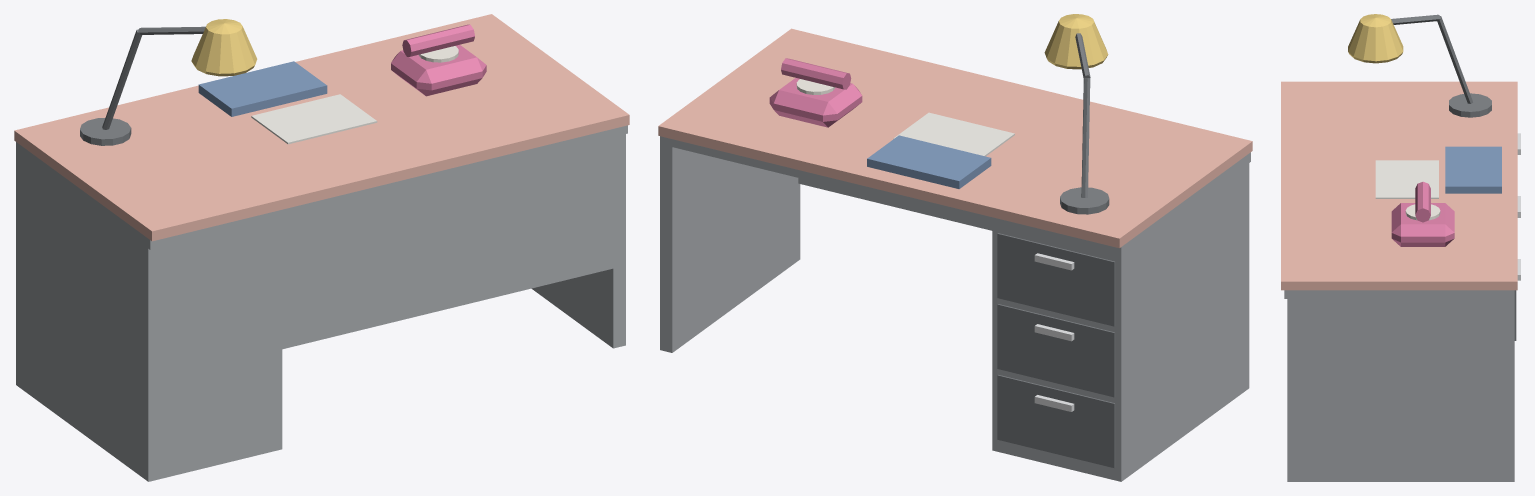
The model's file is office_desk.glb.
The picture shows the model from 3 angles, left to right: view 1: azimuth 30°, elevation 25°; view 2: azimuth 150°, elevation 25°; view 3: azimuth 270°, elevation 25°; orthographic projection. The views are drawn at different scales.
Visible parts, largest first — view 1: office_desk_steel, office_desk_formica, office_desk_book_b, office_desk_accent, office_desk_paper, office_desk_accent3, office_desk_steel_d; view 2: office_desk_steel, office_desk_formica, office_desk_steel_d, office_desk_book_b, office_desk_accent, office_desk_paper, office_desk_accent3, office_desk_chrome; view 3: office_desk_steel, office_desk_formica, office_desk_accent, office_desk_book_b, office_desk_paper, office_desk_accent3, office_desk_steel_d, office_desk_cream.
Part boxes in pixels (x1,y1,x2,y2): office_desk_steel: (16, 125, 627, 481); office_desk_formica: (14, 14, 629, 241); office_desk_book_b: (198, 61, 327, 116); office_desk_accent: (391, 24, 486, 96); office_desk_paper: (251, 94, 377, 144); office_desk_accent3: (191, 19, 257, 76); office_desk_steel_d: (80, 26, 205, 145); office_desk_steel: (660, 136, 1250, 481); office_desk_formica: (658, 28, 1252, 248); office_desk_steel_d: (997, 33, 1115, 467); office_desk_book_b: (867, 135, 991, 188); office_desk_accent: (769, 58, 862, 127); office_desk_paper: (893, 112, 1014, 156); office_desk_accent3: (1044, 14, 1108, 69); office_desk_chrome: (1034, 253, 1074, 411); office_desk_steel: (1284, 290, 1514, 481); office_desk_formica: (1281, 81, 1517, 290); office_desk_accent: (1391, 181, 1454, 246); office_desk_book_b: (1445, 146, 1501, 193); office_desk_paper: (1375, 160, 1438, 198); office_desk_accent3: (1348, 14, 1403, 63); office_desk_steel_d: (1391, 14, 1516, 340); office_desk_cream: (1405, 204, 1440, 220).
Bounding box in the file's own units: 1.5 × 1.17 × 0.76.
